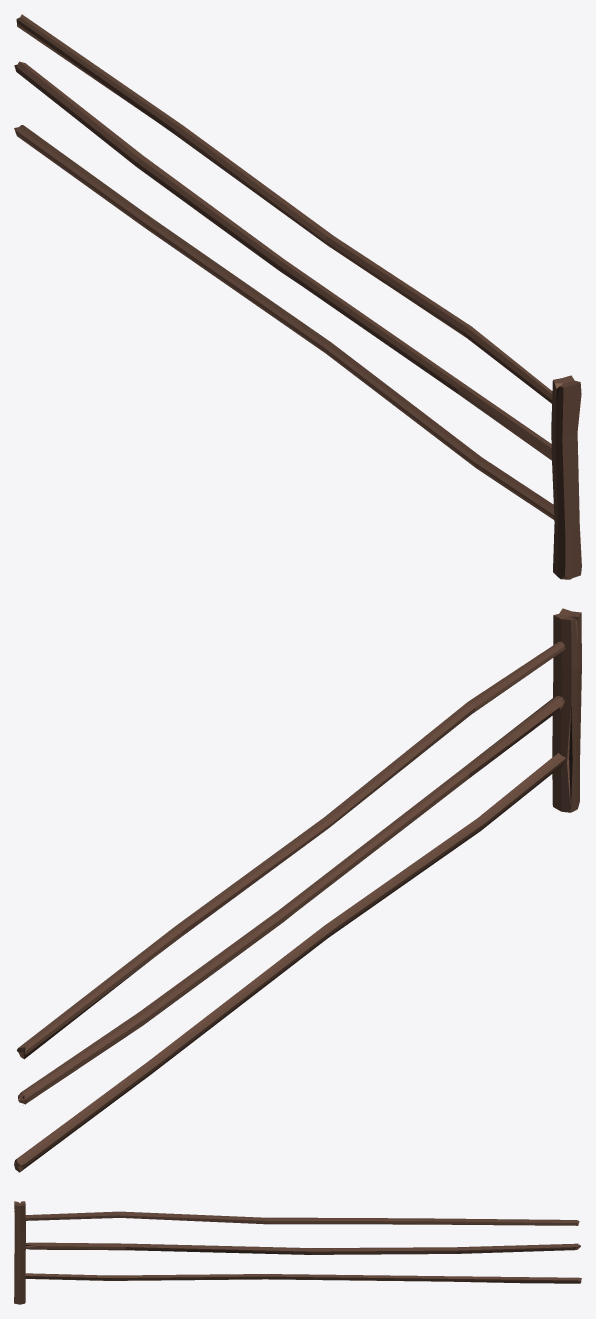
Rendered from FenceSticksLarge_01.glb.
3 views of the same model, one above another, from view 1: azimuth 30°, elevation 25°; view 2: azimuth 150°, elevation 25°; view 3: azimuth 270°, elevation 25° (orthographic). The views are drawn at different scales.
Parts seen in each view (by area): view 1: FenceSticksLarge_01; view 2: FenceSticksLarge_01; view 3: FenceSticksLarge_01.
Part boxes in pixels (box(x1,y1,x2,y2)): FenceSticksLarge_01: box(14, 14, 581, 579); FenceSticksLarge_01: box(14, 608, 581, 1172); FenceSticksLarge_01: box(14, 1201, 581, 1304).
Size of what is drawn, in the model's own units: 0.111 by 0.9851 by 5.08.
Materials: 1 (1 with a texture image).
